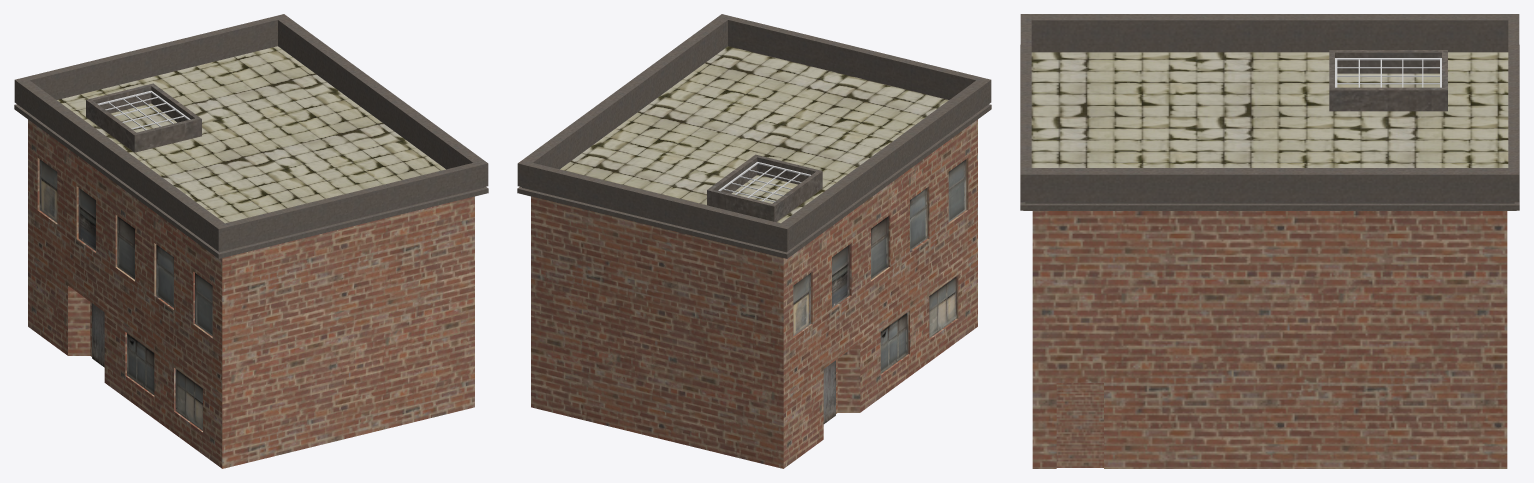
File: buildingA.fbx
The picture shows the model from 3 angles, left to right: view 1: azimuth 30°, elevation 25°; view 2: azimuth 150°, elevation 25°; view 3: azimuth 270°, elevation 25°; orthographic projection. The views are drawn at different scales.
Visible parts, largest first — view 1: polySurface386; view 2: polySurface386; view 3: polySurface386.
Part boxes in pixels (left/top/right/bottom): polySurface386: left=14, top=14, right=488, bottom=468; polySurface386: left=517, top=14, right=991, bottom=468; polySurface386: left=1020, top=14, right=1519, bottom=468.
Bounding box in the file's own units: 0.1604 × 0.2104 × 0.1394.
Materials: 1 (1 with a texture image).
